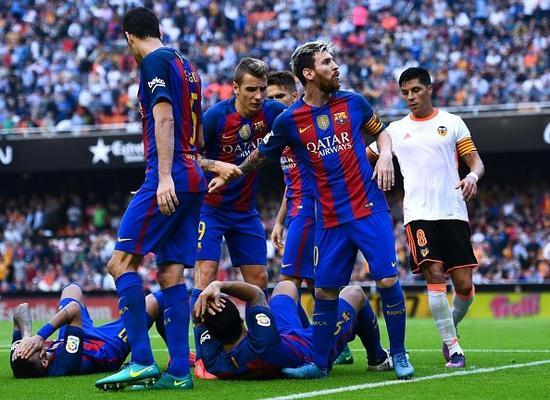bending: (186, 50, 291, 294)
down: (190, 260, 398, 395), (1, 270, 178, 376)
up: (245, 41, 412, 378), (98, 17, 208, 392), (373, 60, 485, 367)
